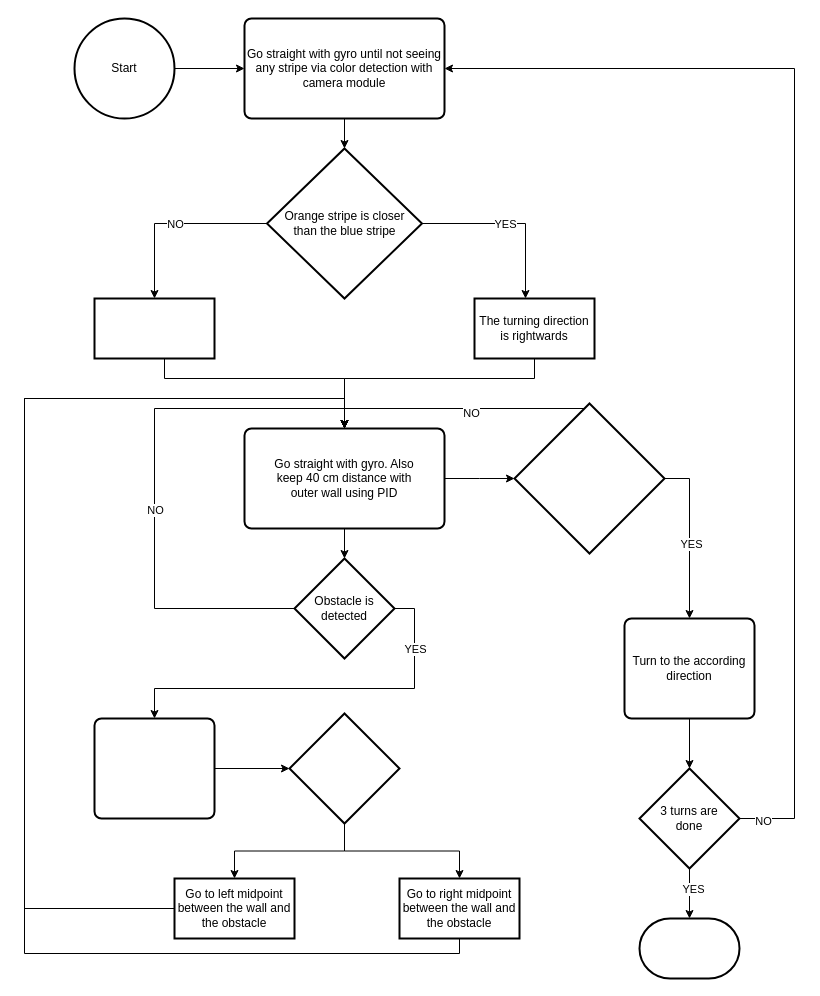
The diagram is 820 pixels wide and 996 high, and some of its shapes have lost their labels. Here are the shapes that lost their labels. From the top down, the centre of each, then its label:
At [154,328]: "The turning direction is leftwards".
At [589,478]: "Distance to the front wall is less than or equal to 70cm".
At [154,768]: "Investigate its color using color detection".
At [344,768]: "The obstacle is red".
At [689,948]: "Finish".
